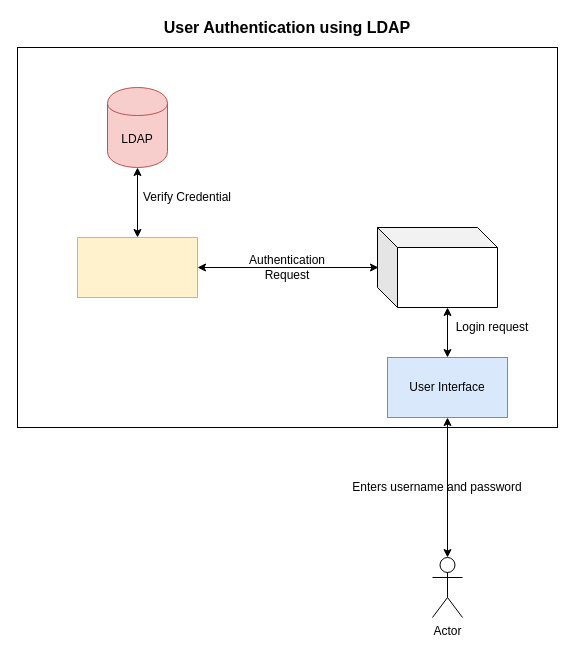
This 575x655 diagram has some shape labels left out. Here are the shapes that lost their labels. From the top down, the centre of each, then its label:
At point 137,267: "Fabric CA Server".
At point 437,267: "Fabric-ca-client SDK".
